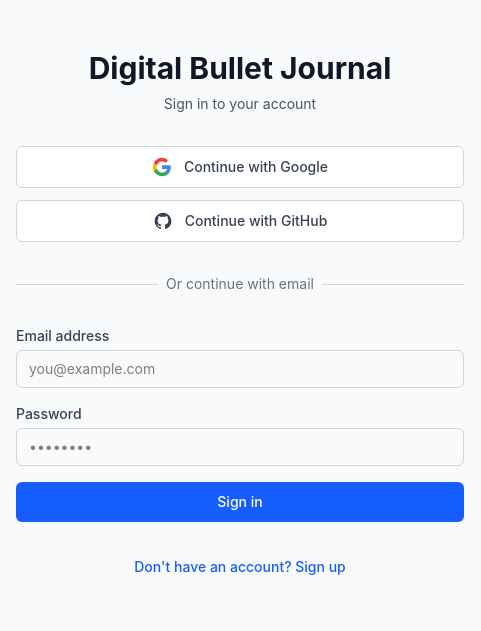
Test: SignInPage › shows validation error when email is empty on submit
Click the button "Sign in" at (240, 502), box [16,482,464,522]
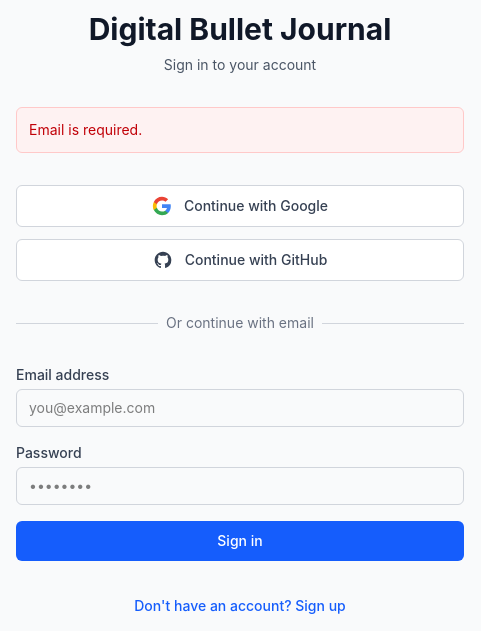
Expected: the text "Email is required." is shown, [29,121,142,138]
